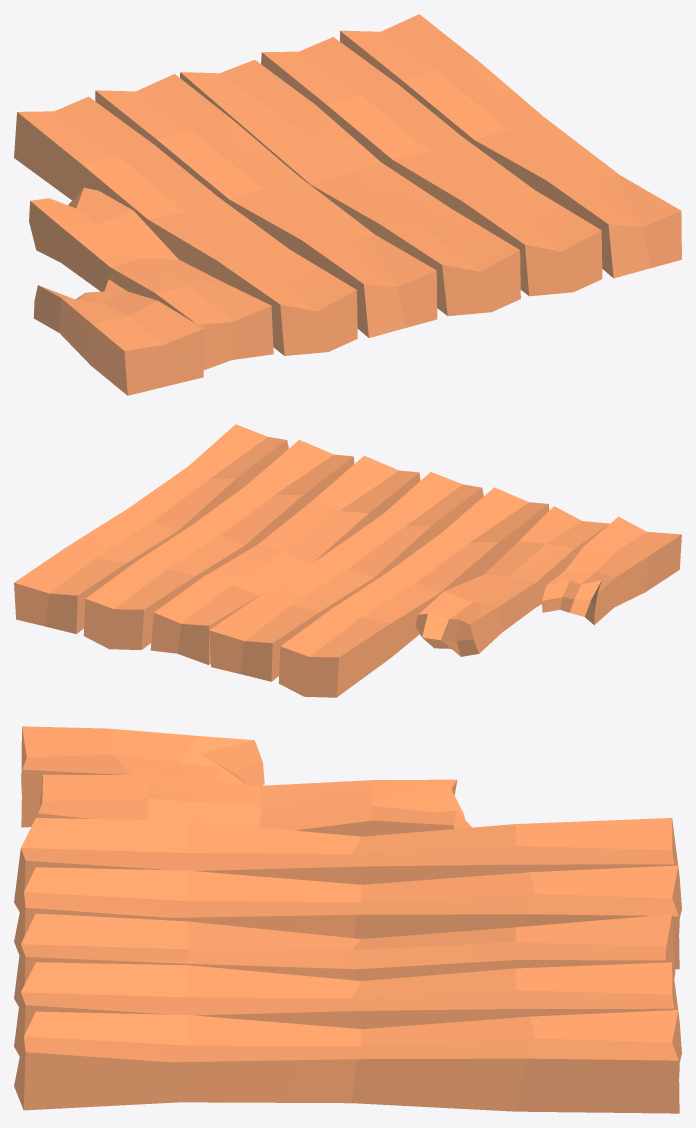
Rendered from PlatformM_Wood3.fbx.
3 views of the same model, one above another, from view 1: azimuth 30°, elevation 25°; view 2: azimuth 150°, elevation 25°; view 3: azimuth 270°, elevation 25° (orthographic). The views are drawn at different scales.
Visible parts, largest first — view 1: WoodPlank4_1, WoodPlank4, WoodPlank5, WoodPlank5_1, WoodPlank6, WoodPlank7, WoodPlank11; view 2: WoodPlank4_1, WoodPlank4, WoodPlank5_1, WoodPlank5, WoodPlank6, WoodPlank7, WoodPlank11; view 3: WoodPlank5, WoodPlank5_1, WoodPlank4, WoodPlank4_1, WoodPlank6, WoodPlank7, WoodPlank11.
Part boxes in pixels (<box>): WoodPlank4_1: <box>14,96,357,355</box>; WoodPlank4: <box>261,37,602,296</box>; WoodPlank5: <box>340,14,681,278</box>; WoodPlank5_1: <box>95,74,437,337</box>; WoodPlank6: <box>180,59,520,316</box>; WoodPlank7: <box>29,187,273,370</box>; WoodPlank11: <box>33,279,203,395</box>; WoodPlank4_1: <box>278,487,549,697</box>; WoodPlank4: <box>83,440,354,649</box>; WoodPlank5_1: <box>209,472,483,681</box>; WoodPlank5: <box>14,424,288,634</box>; WoodPlank6: <box>150,455,420,664</box>; WoodPlank7: <box>415,506,609,656</box>; WoodPlank11: <box>541,516,681,625</box>; WoodPlank5: <box>14,1010,679,1113</box>; WoodPlank5_1: <box>14,865,679,969</box>; WoodPlank4: <box>14,962,681,1062</box>; WoodPlank4_1: <box>14,818,681,917</box>; WoodPlank6: <box>14,913,675,1006</box>; WoodPlank7: <box>38,774,471,836</box>; WoodPlank11: <box>21,726,264,827</box>.
Bounding box in the file's own units: 469 × 44.35 × 396.
